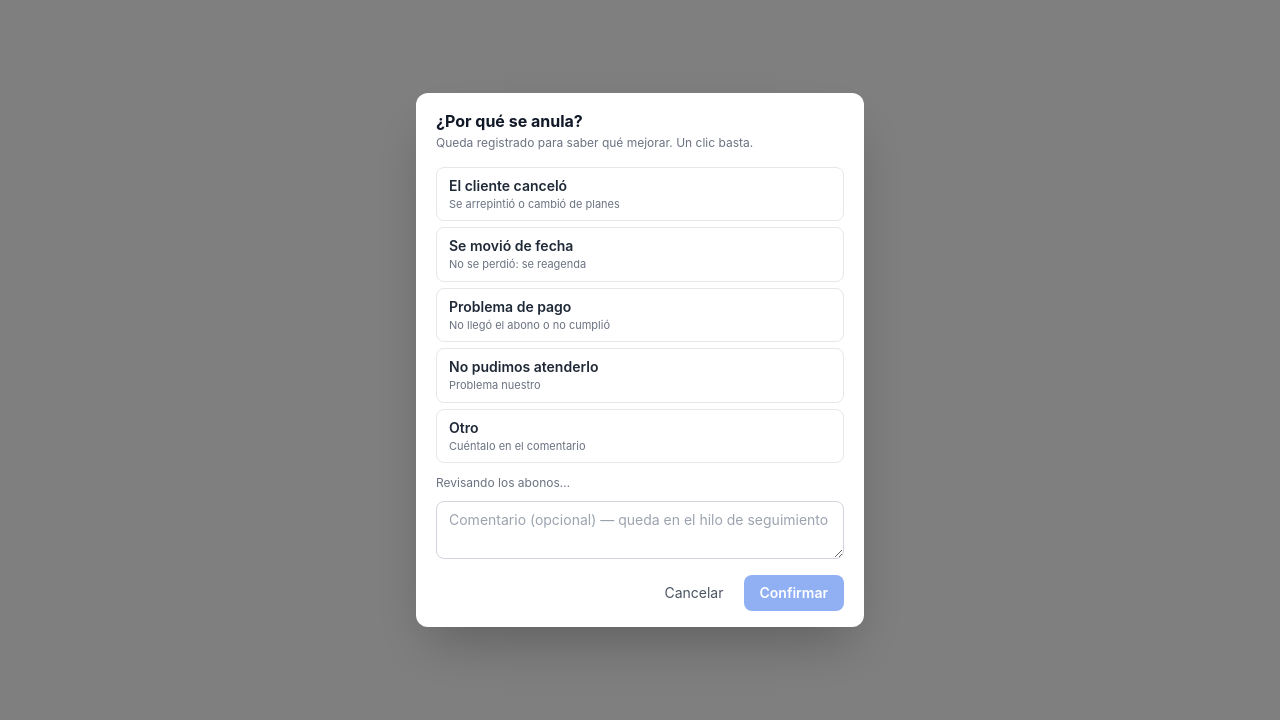
Test case: Anular con abonos › pregunta si se reembolsan y no deja anular sin responder
The image size is (1280, 720).
Step 1. Click the text "No pudimos atenderlo" → (524, 367), box [449, 358, 598, 375]
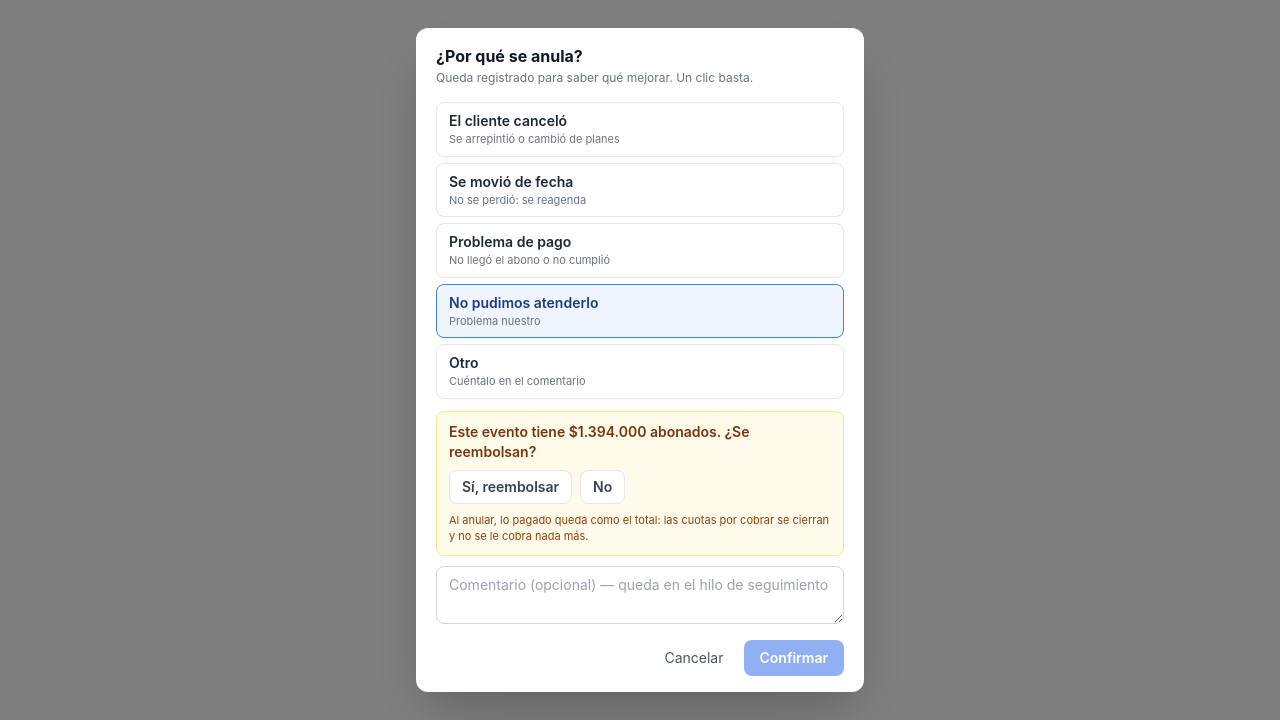
Check: the button "Confirmar" is disabled, box [744, 640, 844, 676]
Check: the text "Este evento tiene $1.394.000 abonados. ¿Se reembolsan?" is shown, box [449, 423, 750, 460]
